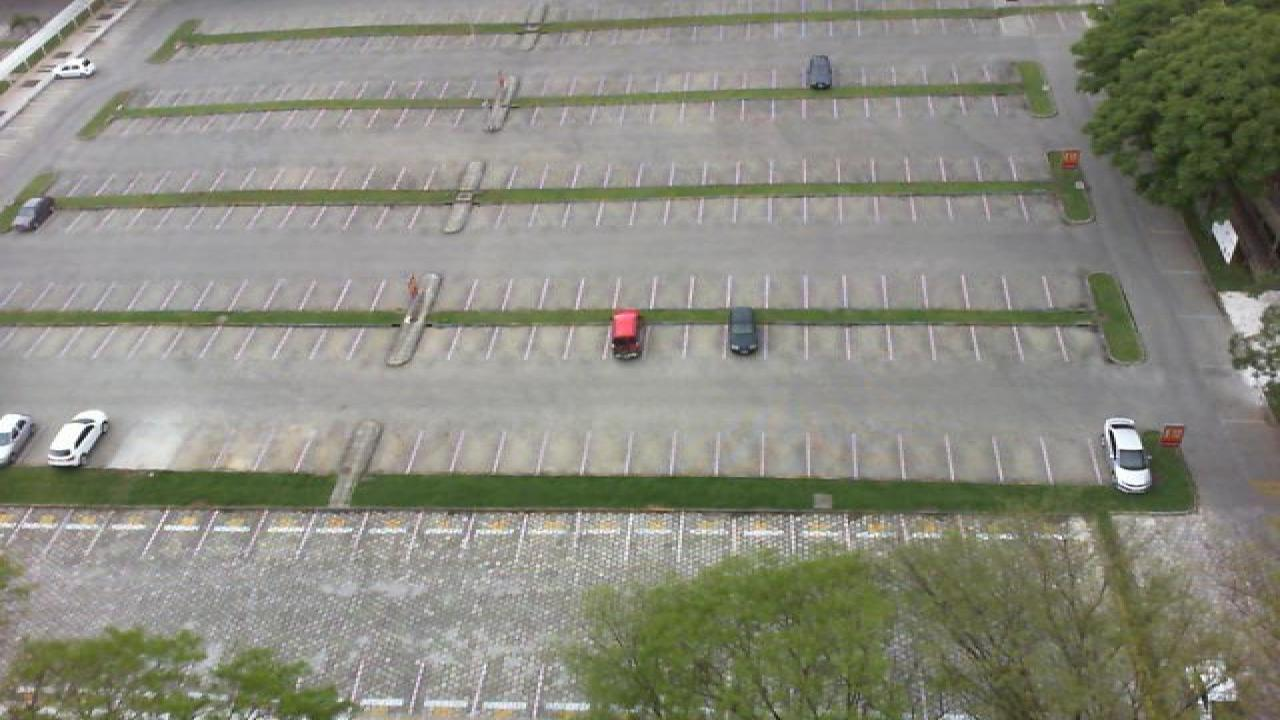Car: (1100, 416, 1154, 494), (44, 409, 110, 470), (606, 308, 644, 361), (726, 305, 760, 357), (0, 413, 32, 467), (10, 195, 54, 234), (804, 54, 834, 91), (54, 55, 94, 79)
